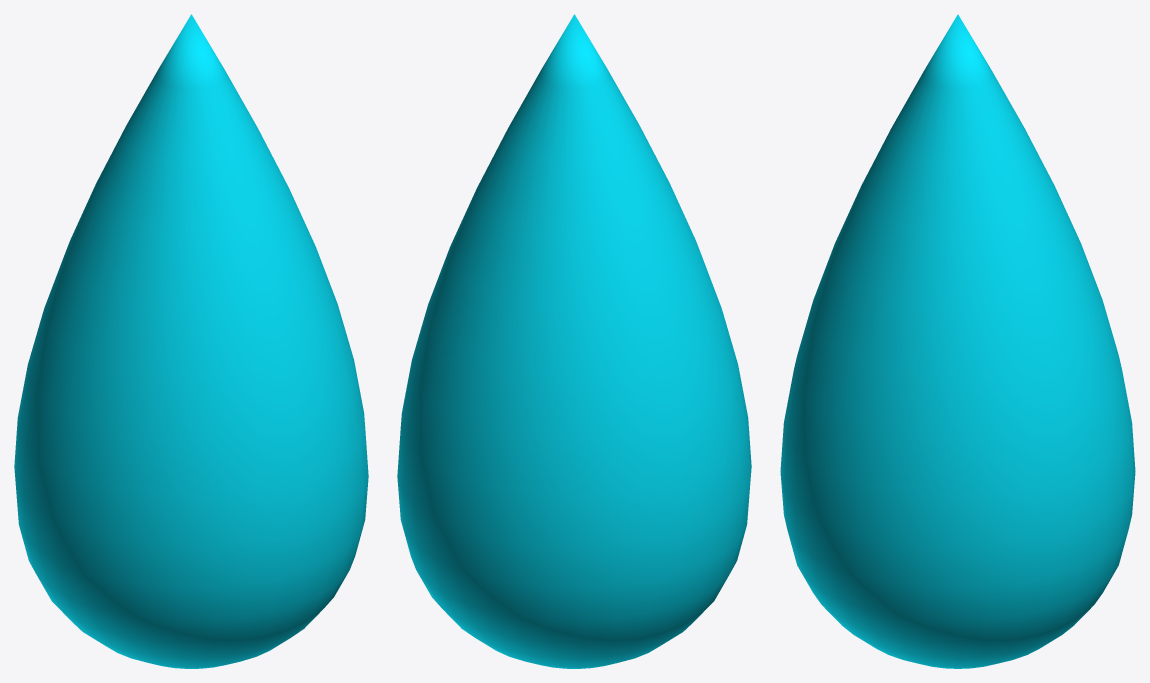
File: raindrop.fbx
The picture shows the model from 3 angles, left to right: view 1: azimuth 30°, elevation 25°; view 2: azimuth 150°, elevation 25°; view 3: azimuth 270°, elevation 25°; orthographic projection.
Parts seen in each view (by area): view 1: rainDrop; view 2: rainDrop; view 3: rainDrop.
Part boxes in pixels (bbox=[...]): rainDrop: bbox=[14, 14, 368, 668]; rainDrop: bbox=[397, 14, 751, 668]; rainDrop: bbox=[780, 14, 1135, 668].
Size of the model in its own units: 50 by 99.23 by 50.
